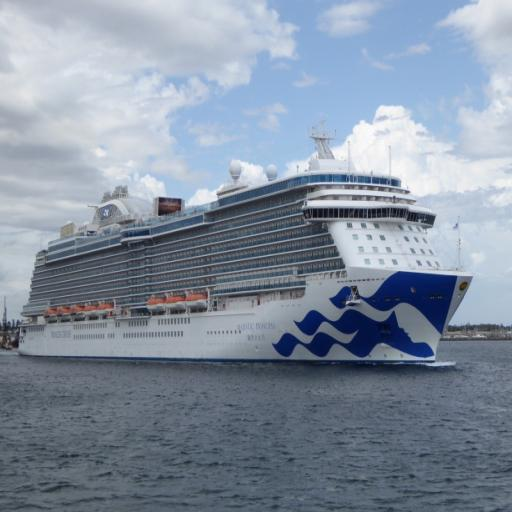cruises: (15, 118, 479, 370)
